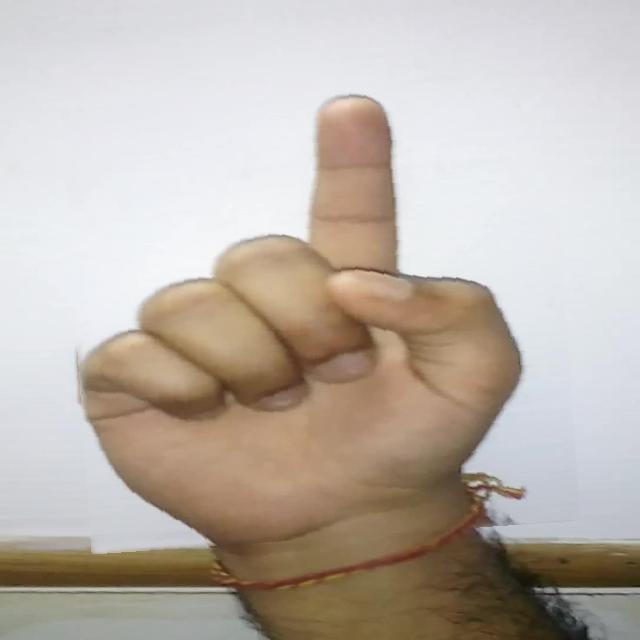I: (69, 83, 573, 546)
